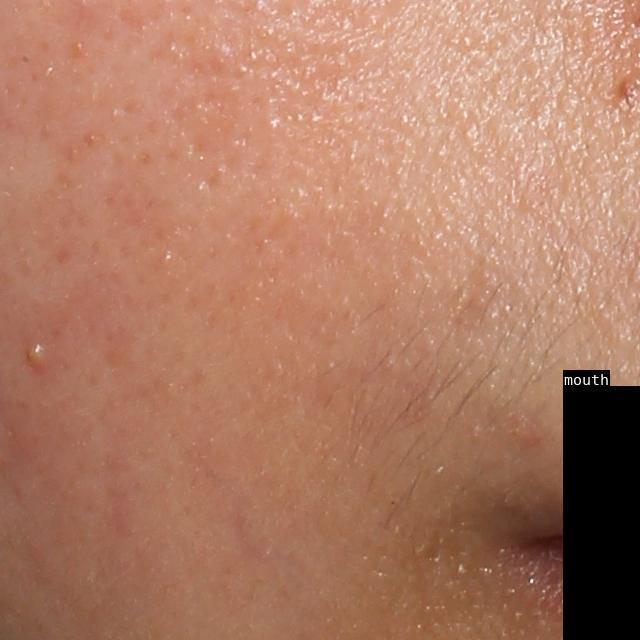nevus: (616, 79, 637, 105)
pustule: (24, 340, 50, 370)
